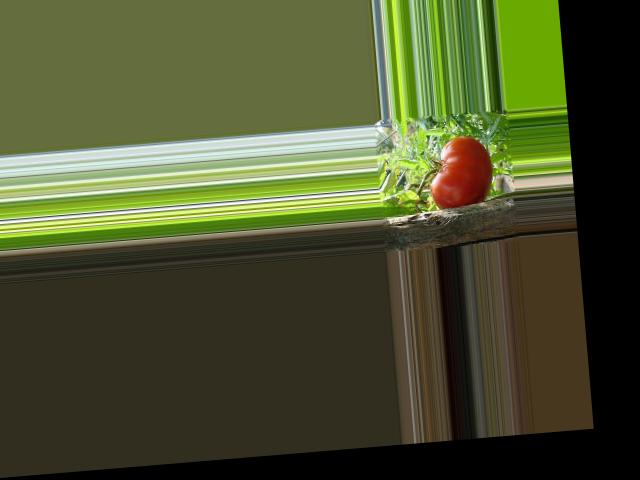tomato: (425, 133, 494, 210)
